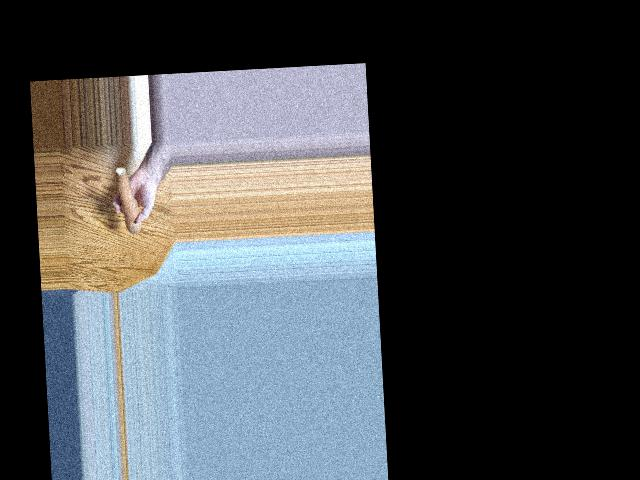sweet_potato: (113, 161, 138, 237)
